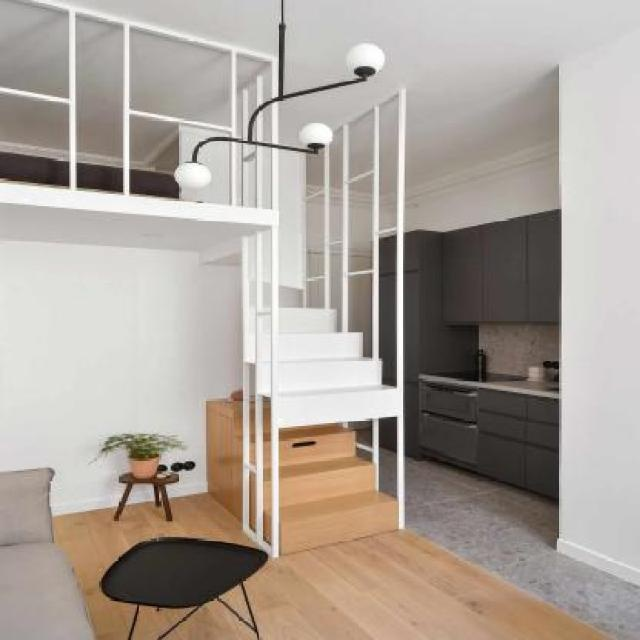stair: (178, 143, 431, 559)
